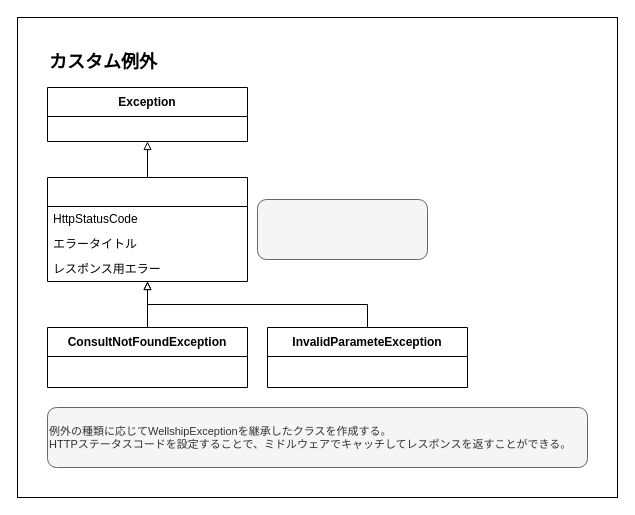
Some shapes in this 635 by 515 pixel diagram are drawn without their labels. Each missing label, with the box of its shape:
WellshipException: (46, 176, 248, 282)
カスタム例外の基底クラス: (256, 198, 428, 260)
